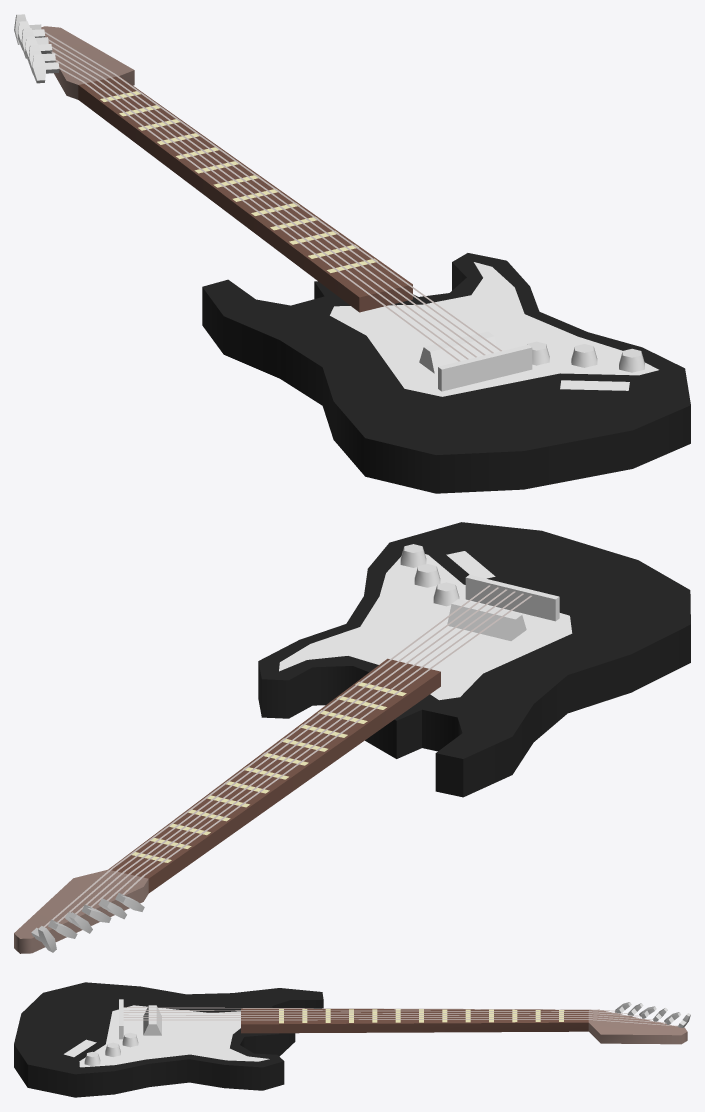
The model's file is instrument.glb.
3 renders of one model, top to bottom at view 1: azimuth 30°, elevation 25°; view 2: azimuth 150°, elevation 25°; view 3: azimuth 270°, elevation 25°, orthographic. The views are drawn at different scales.
Visible parts, largest first — view 1: musical_instrument_010; view 2: musical_instrument_010; view 3: musical_instrument_010.
Boxes of the visible parts, x1=… form: musical_instrument_010: x1=14, y1=14, x2=690, y2=493; musical_instrument_010: x1=14, y1=522, x2=690, y2=953; musical_instrument_010: x1=14, y1=982, x2=690, y2=1097.
Bounding box in the file's own units: 0.4008 × 0.0802 × 1.25.
Materials: 1 (1 with a texture image).
